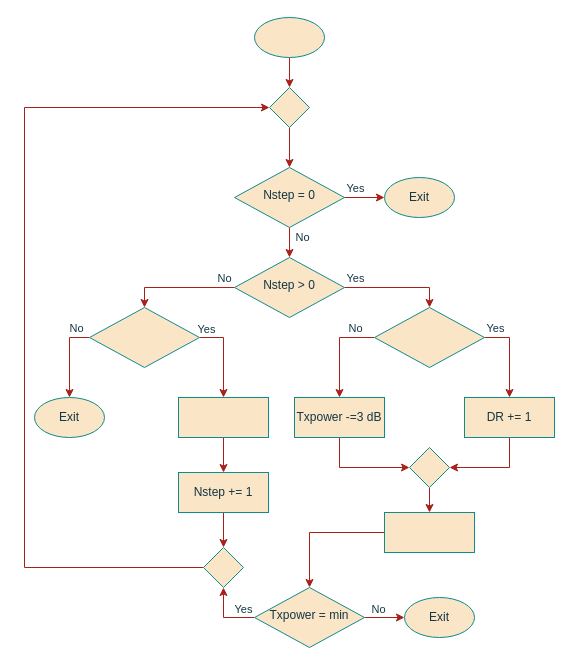
The diagram is 572 pixels wide and 665 high, and some of its shapes have lost their labels. Each missing label, with the box of its shape:
DR < DR5: (374, 306, 484, 368)
Nstep -= 1: (384, 512, 474, 552)
Start: (254, 16, 324, 58)
Txpower +=3 dB: (178, 396, 268, 438)
Txpower < max: (88, 306, 200, 368)
